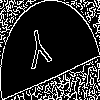Y: (25, 25, 54, 79)
